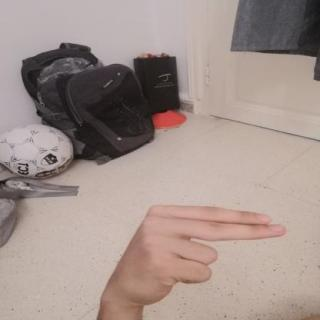AYN: (90, 195, 296, 310)
